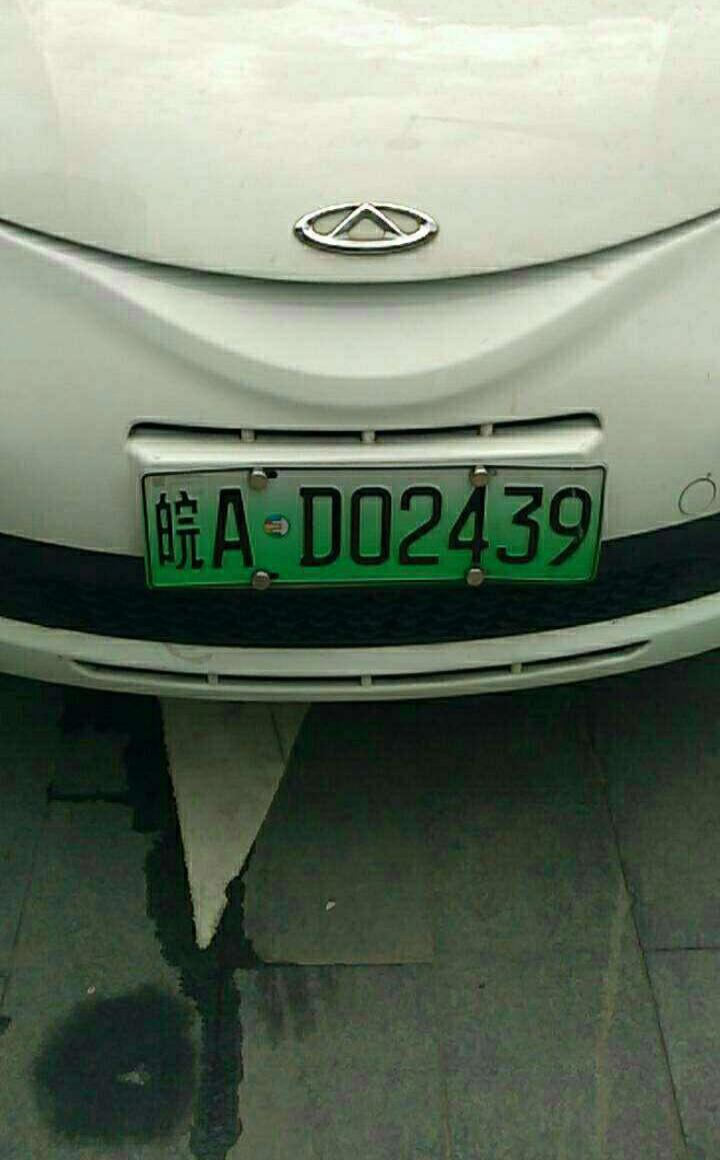car_id: (147, 464, 607, 588)
